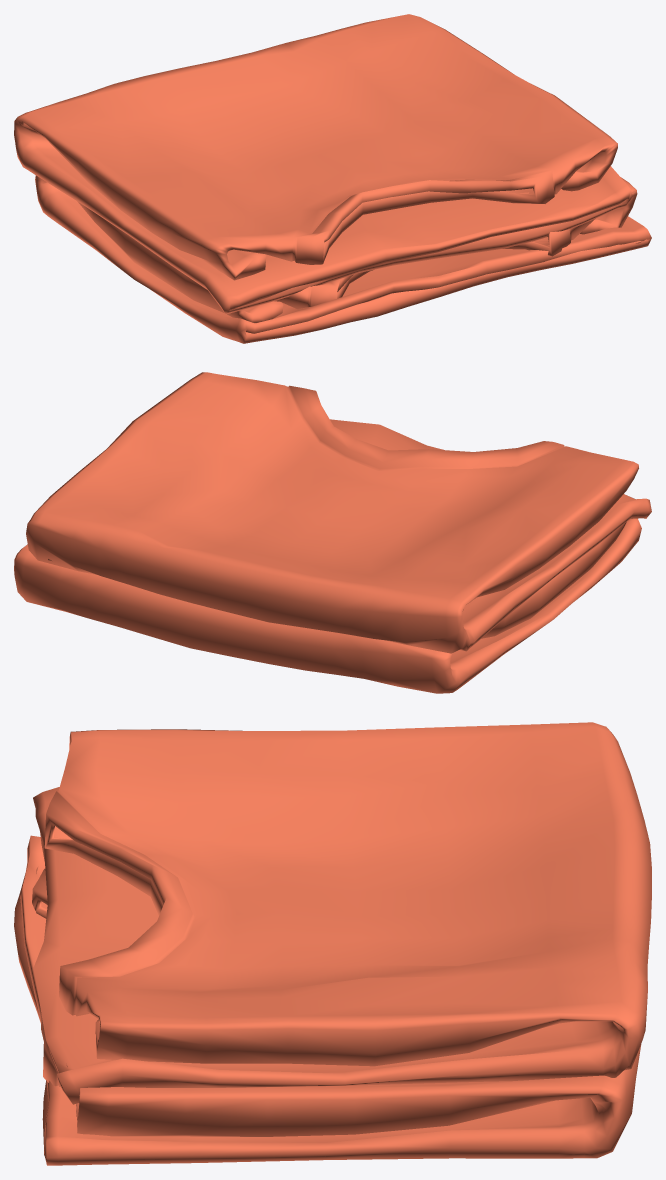
File: Folded_T_Shirt12.fbx
3 views of the same model, one above another, from view 1: azimuth 30°, elevation 25°; view 2: azimuth 150°, elevation 25°; view 3: azimuth 270°, elevation 25° (orthographic). The views are drawn at different scales.
Visible parts, largest first — view 1: Folded_T_Shirt12; view 2: Folded_T_Shirt12; view 3: Folded_T_Shirt12.
Part boxes in pixels (x1,y1,x2,y2): Folded_T_Shirt12: [14, 14, 651, 343]; Folded_T_Shirt12: [14, 372, 651, 693]; Folded_T_Shirt12: [14, 722, 651, 1165].
Size of the model in its own units: 38.43 by 8.12 by 33.24.
